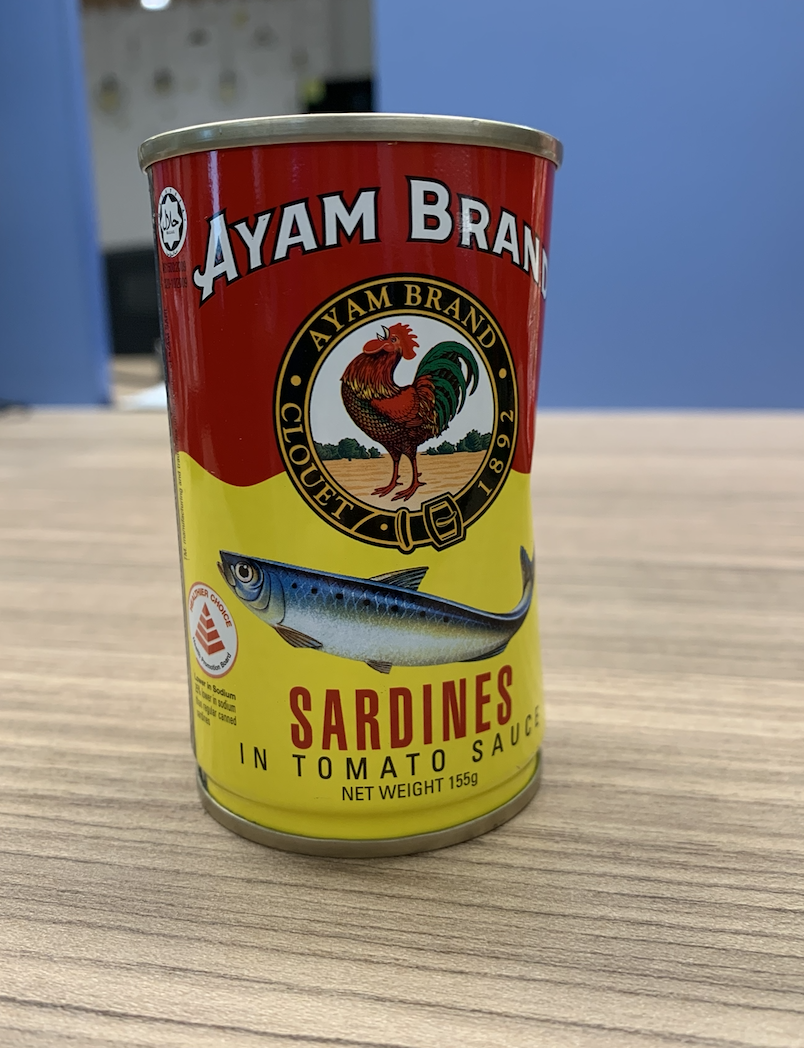sardines_100g-199g: (170, 167, 545, 802)
